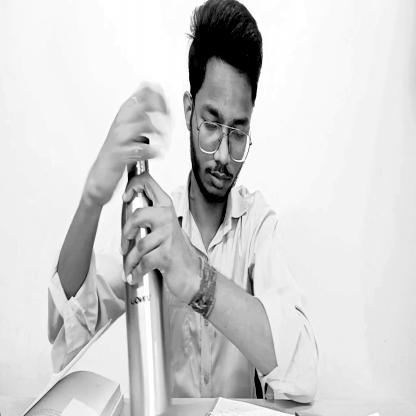Normal: (187, 9, 259, 208)
